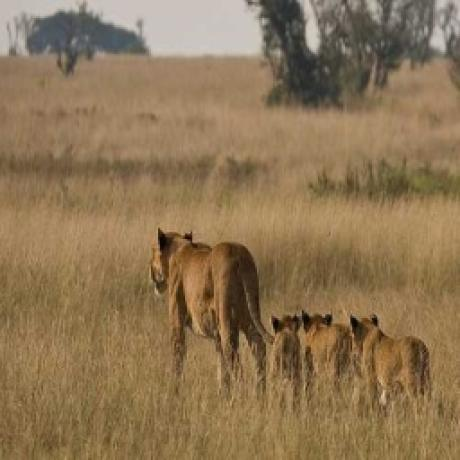Lion: (150, 225, 272, 391), (348, 310, 433, 402), (301, 306, 352, 396), (271, 313, 303, 377)
